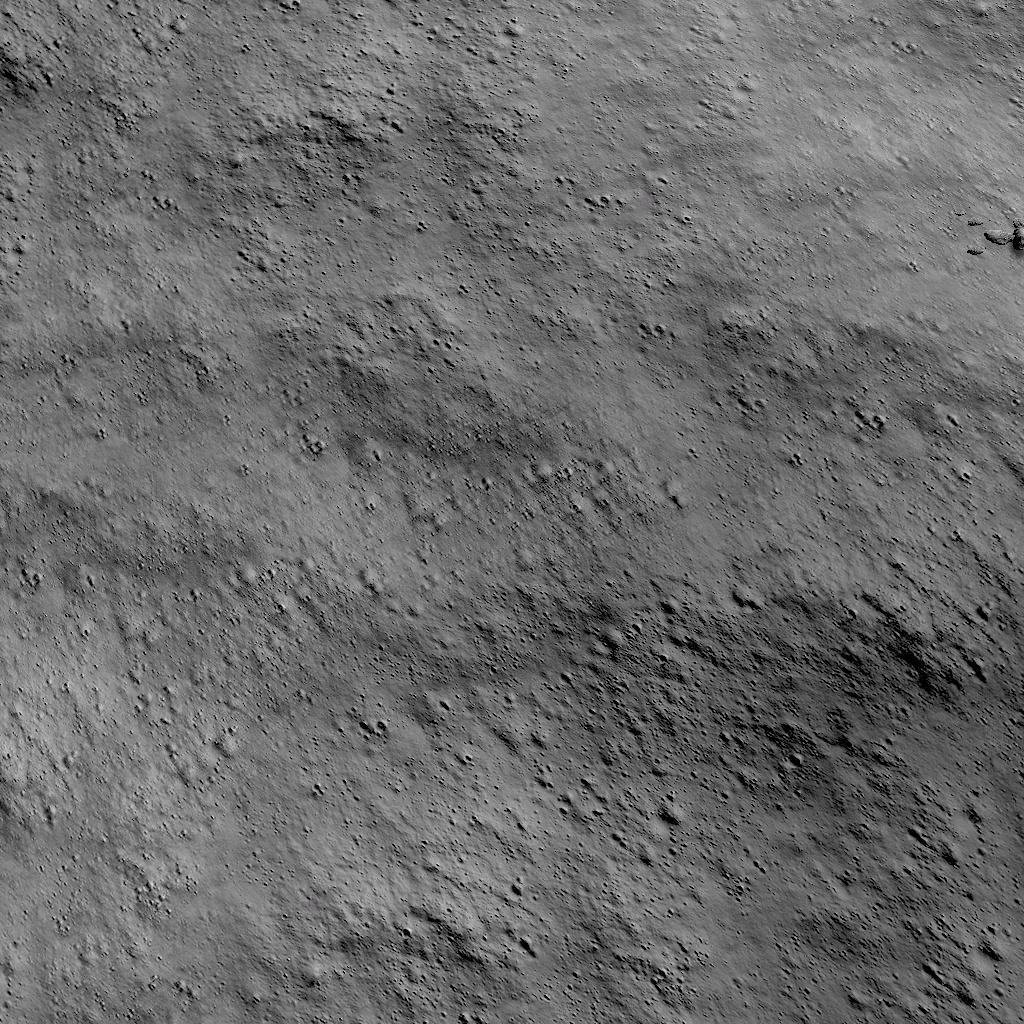Plan surface: (0, 275, 1024, 1024), (0, 0, 953, 263)
